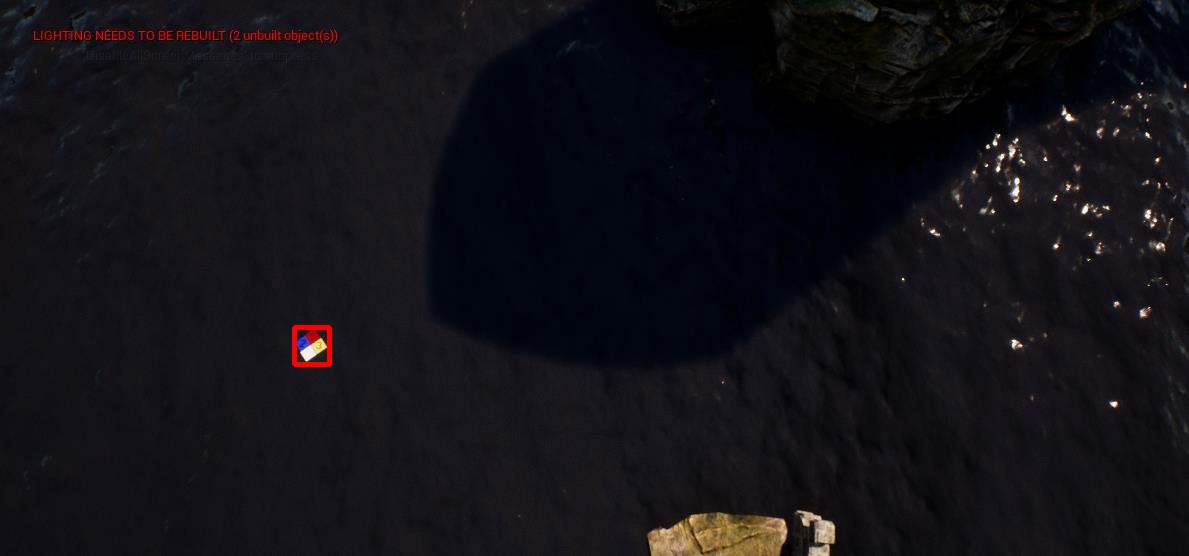nfpa: (294, 327, 329, 364)
